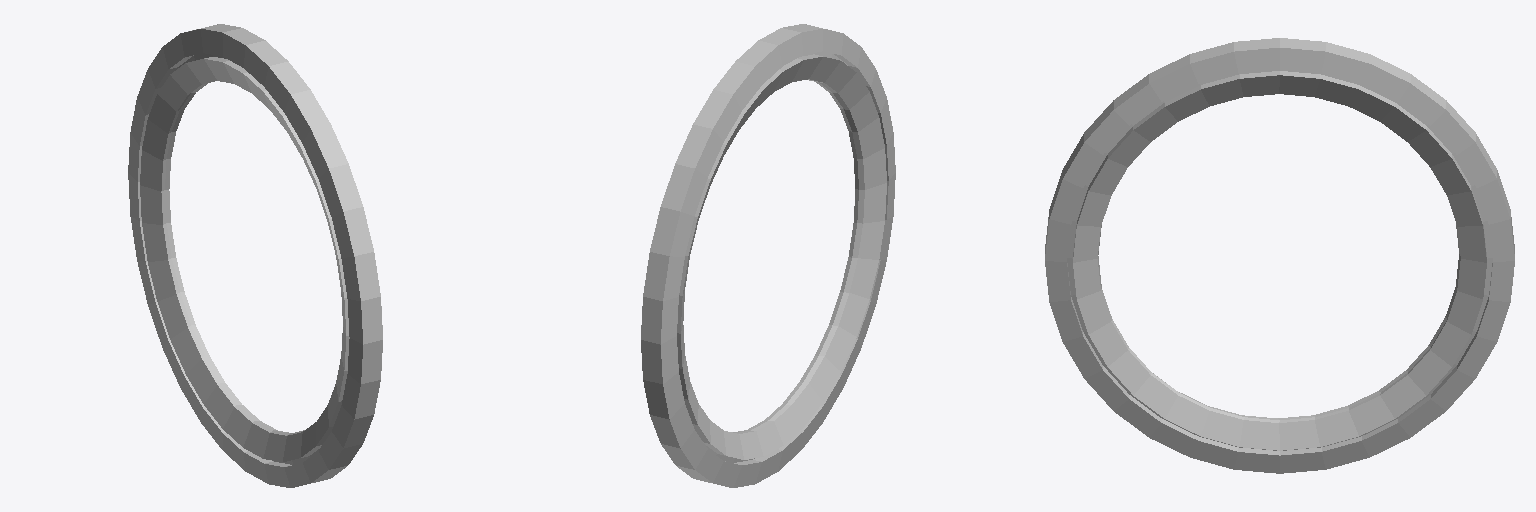
The model's file is gate2.obj.
3 views of the same model, side by side, from view 1: azimuth 30°, elevation 25°; view 2: azimuth 150°, elevation 25°; view 3: azimuth 270°, elevation 25° (orthographic).
Parts seen in each view (by area): view 1: Cylinder; view 2: Cylinder; view 3: Cylinder.
Boxes of the visible parts, x1=… form: Cylinder: x1=128, y1=24, x2=382, y2=487; Cylinder: x1=641, y1=24, x2=895, y2=487; Cylinder: x1=1045, y1=38, x2=1514, y2=473.
Bounding box in the file's own units: 1.25 × 17.75 × 17.75.